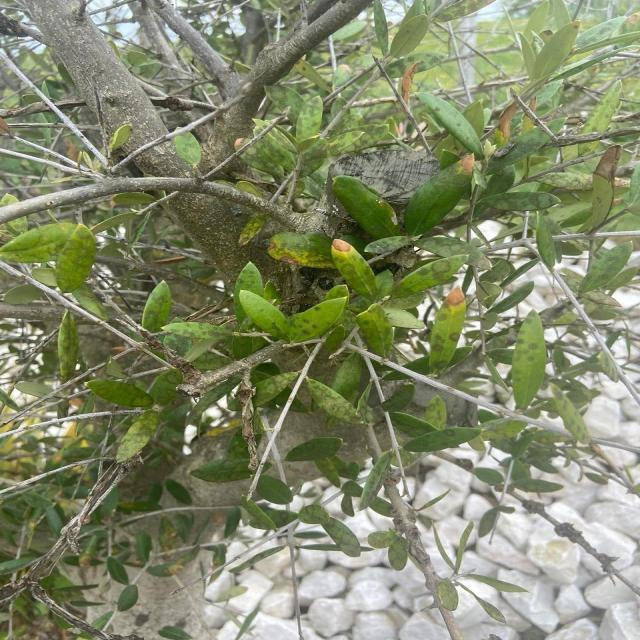OlivePeacockSpot: (233, 85, 364, 178), (420, 92, 483, 159), (511, 310, 546, 410), (391, 254, 468, 298), (576, 242, 632, 296), (430, 287, 465, 373), (55, 225, 96, 292), (290, 296, 349, 342), (330, 239, 374, 298), (306, 377, 361, 424), (240, 290, 290, 338), (550, 384, 591, 442), (116, 409, 157, 462), (403, 427, 480, 453), (356, 304, 393, 356), (87, 379, 152, 408), (361, 452, 390, 510), (386, 52, 448, 78), (480, 192, 559, 212), (253, 372, 298, 407), (142, 280, 172, 332), (285, 437, 342, 462), (58, 310, 76, 382), (162, 322, 231, 340), (150, 369, 182, 406), (238, 214, 266, 247), (426, 396, 446, 429)
